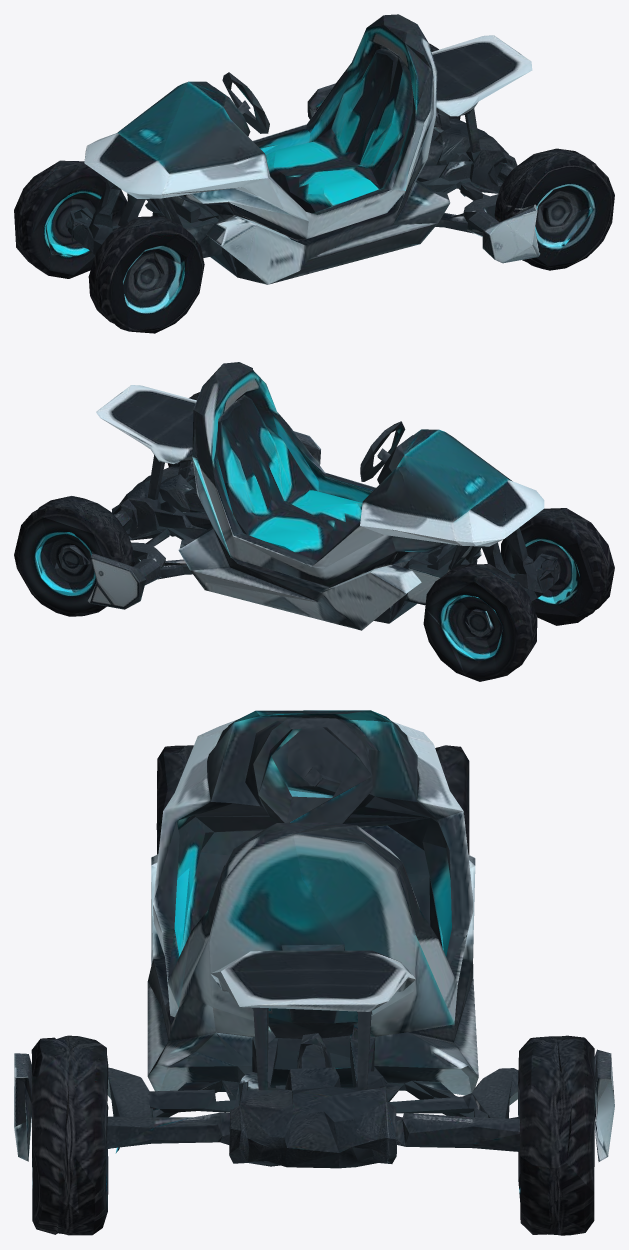
Rendered from kart-cyan.glb.
3 views of the same model, one above another, from view 1: azimuth 30°, elevation 25°; view 2: azimuth 150°, elevation 25°; view 3: azimuth 270°, elevation 25° (orthographic). The views are drawn at different scales.
Size of the model in its own units: 1.9 by 0.794 by 1.27.
Materials: 1 (1 with a texture image).
